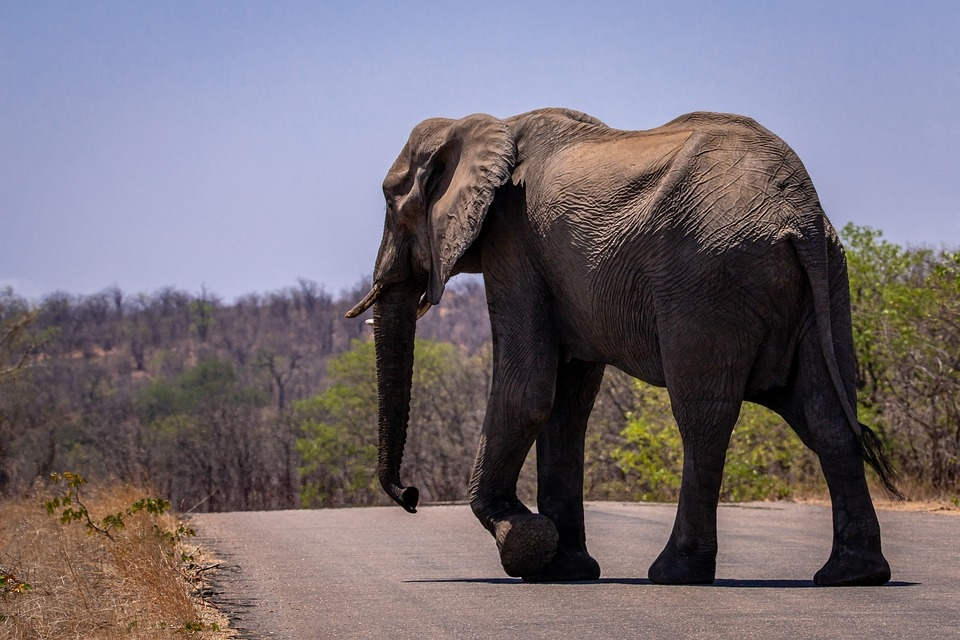elephant: (340, 101, 894, 588)
